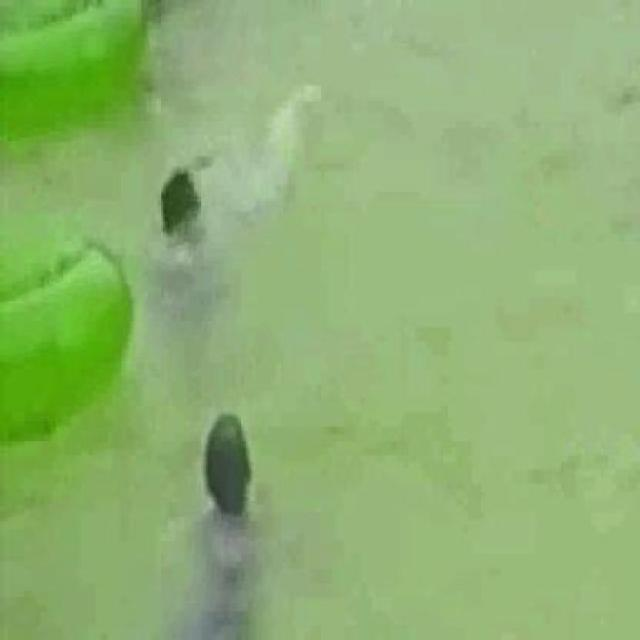drowning: (186, 399, 269, 624), (146, 154, 242, 317)
